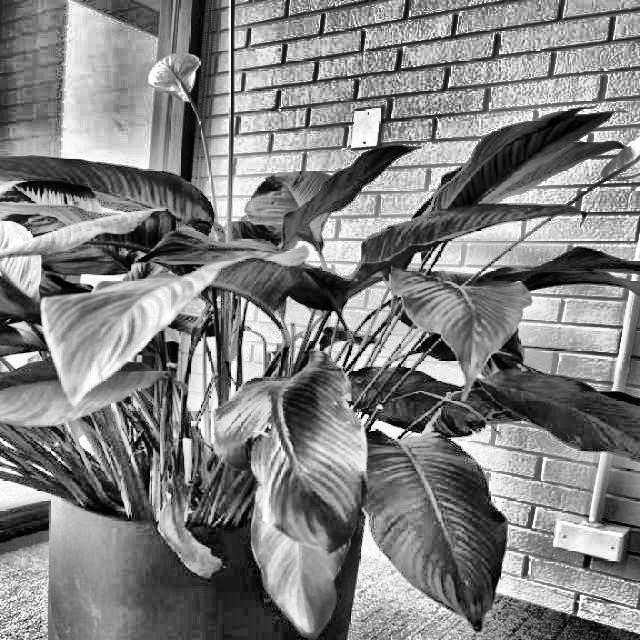plants: (0, 82, 598, 640)
